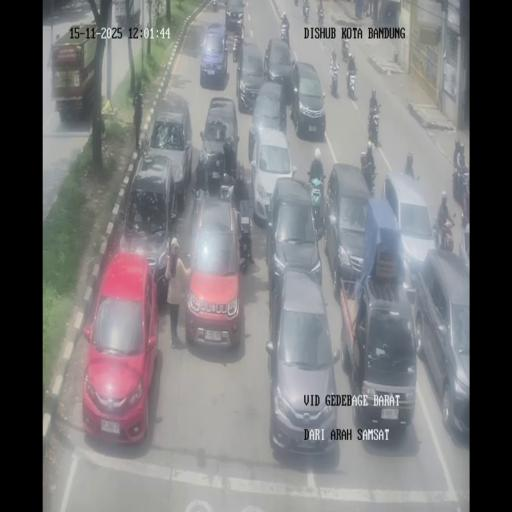3: (50, 26, 100, 122), (113, 0, 140, 29)
car: (82, 252, 159, 442), (340, 263, 418, 438), (267, 270, 338, 458), (415, 250, 469, 438), (185, 192, 245, 348), (120, 153, 179, 294), (382, 172, 438, 284), (326, 162, 372, 290), (250, 126, 295, 229), (198, 96, 240, 194), (289, 60, 326, 140), (235, 40, 265, 112), (199, 22, 229, 88), (263, 38, 294, 90), (224, 0, 246, 32), (458, 227, 470, 276)
truck: (307, 173, 326, 236), (190, 180, 206, 234), (238, 220, 253, 272), (452, 164, 469, 206), (438, 217, 454, 252), (363, 161, 377, 197), (367, 106, 380, 144), (232, 26, 245, 64), (346, 68, 358, 100), (329, 62, 339, 96), (454, 139, 464, 168), (405, 152, 415, 179), (432, 218, 439, 250), (280, 24, 290, 46), (341, 40, 350, 62), (302, 3, 310, 23), (317, 4, 324, 24), (362, 0, 368, 16), (224, 35, 229, 53), (211, 0, 217, 11), (294, 0, 299, 6)
